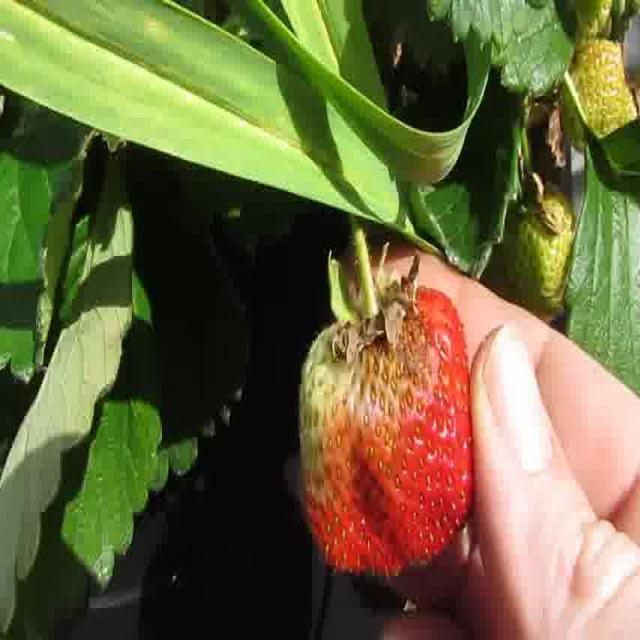Fruta sana: (296, 258, 478, 582), (506, 180, 584, 323), (562, 41, 640, 150), (574, 0, 618, 42)
